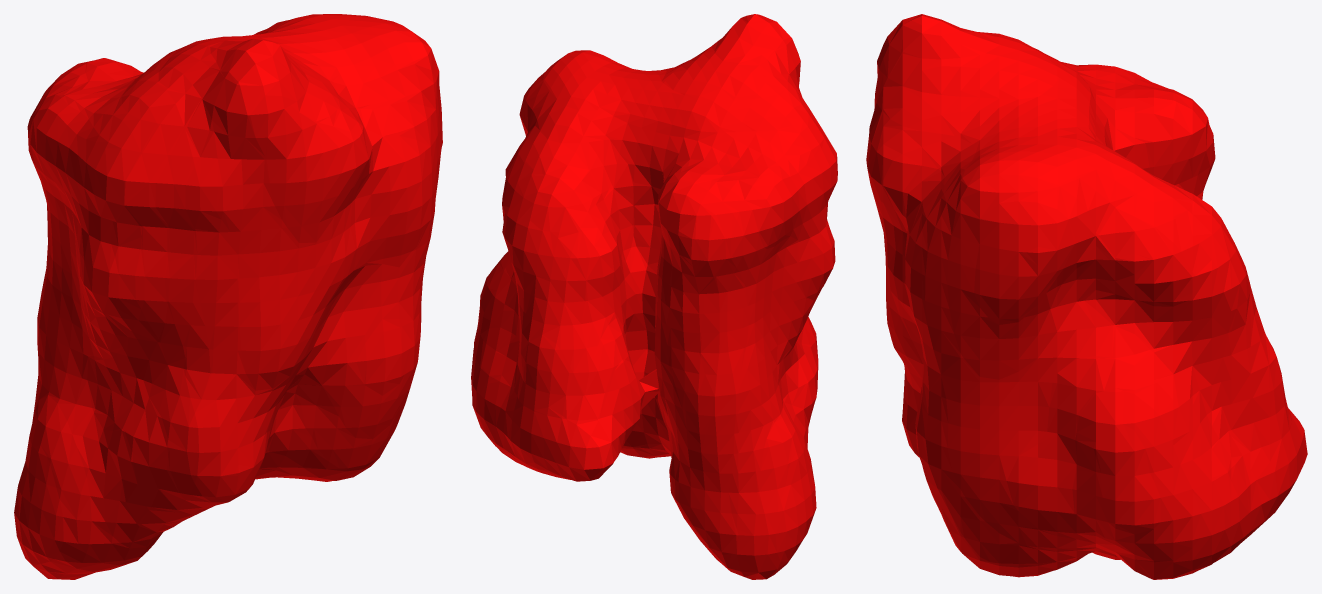
File: ybhL_coarse.dae
3 renders of one model, left to right at view 1: azimuth 30°, elevation 25°; view 2: azimuth 150°, elevation 25°; view 3: azimuth 270°, elevation 25°, orthographic. The views are drawn at different scales.
Visible parts, largest first — view 1: ybhL; view 2: ybhL; view 3: ybhL.
Boxes of the visible parts, bbox=[...] form: ybhL: bbox=[14, 14, 442, 579]; ybhL: bbox=[471, 14, 837, 579]; ybhL: bbox=[866, 14, 1307, 579].
Size of the model in its own units: 42.67 by 62.85 by 42.62.
